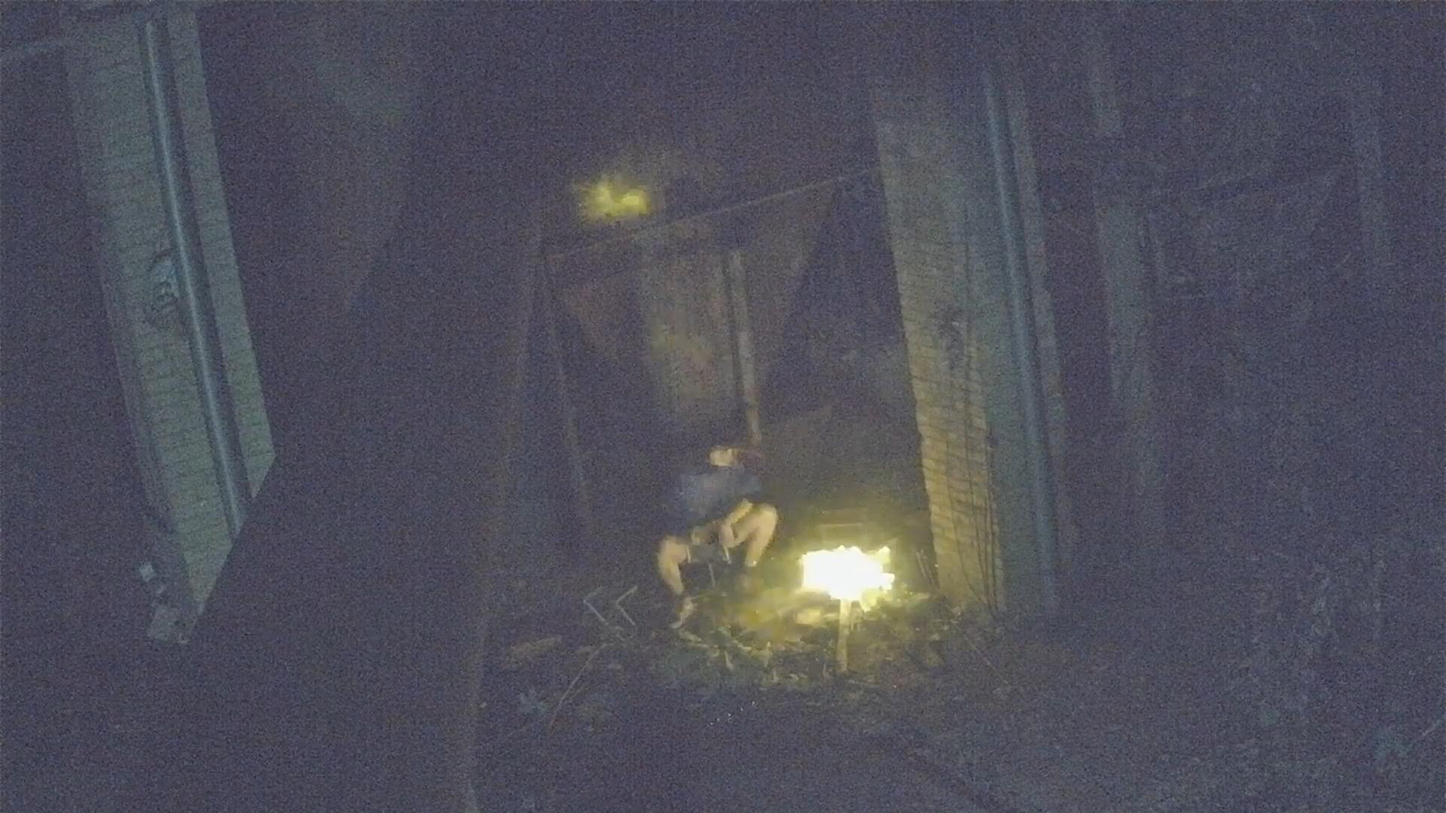fire: (801, 547, 895, 671), (801, 546, 893, 626)
